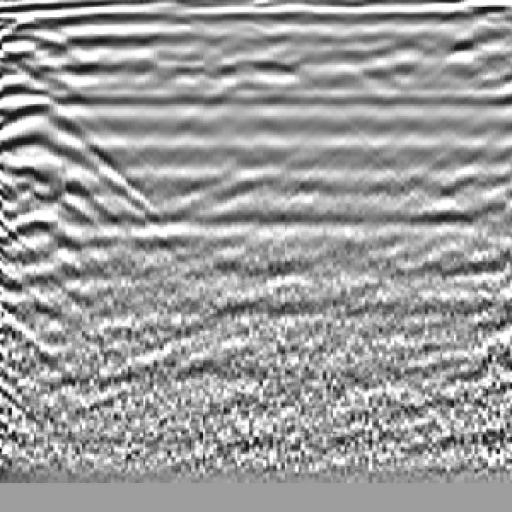metalic: (1, 58, 148, 298)
